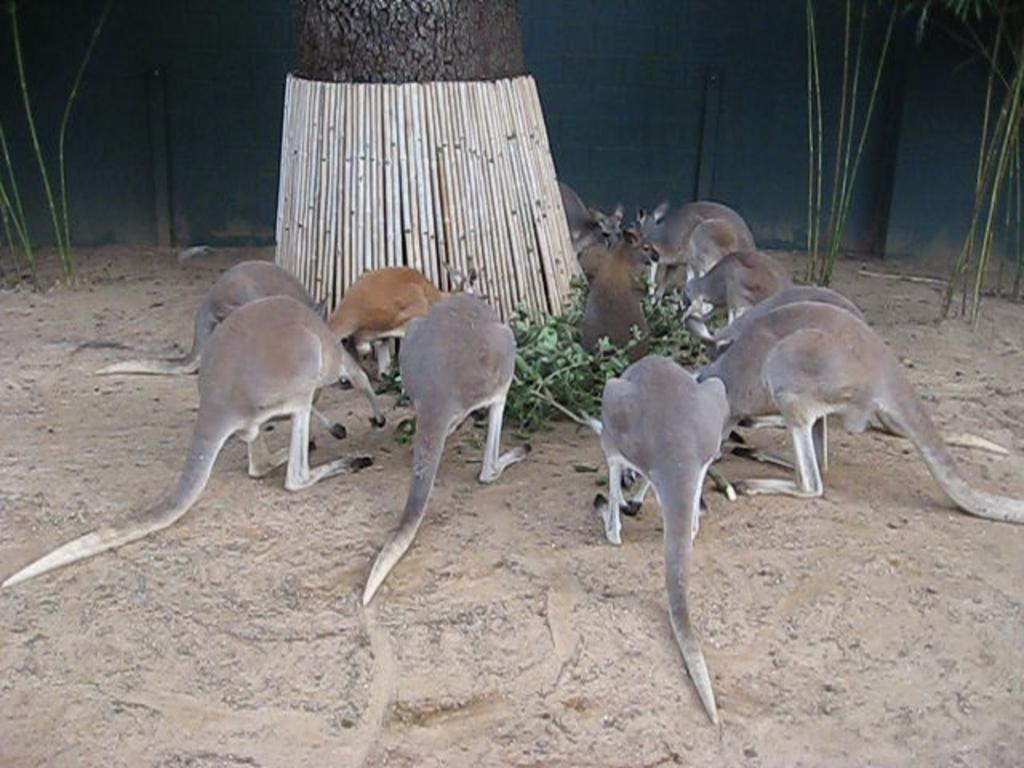kangaroo: (0, 182, 1022, 724), (36, 259, 362, 608)
